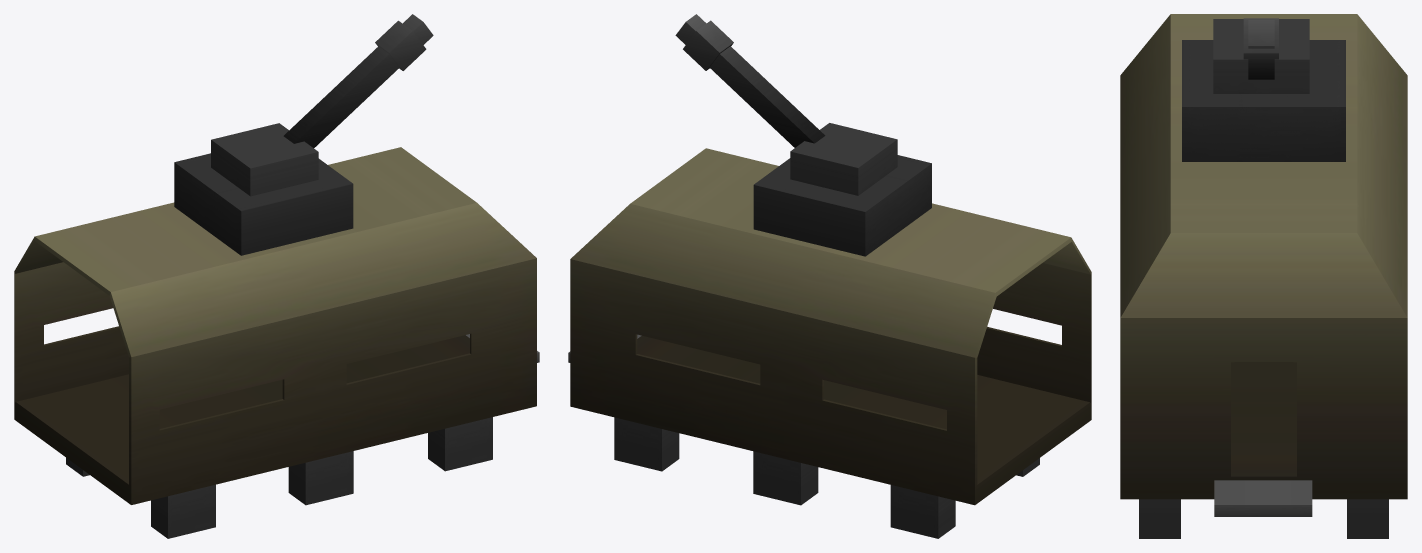
File: train_half_light_gun_everything_placeholder_v001.fbx
The picture shows the model from 3 angles, left to right: view 1: azimuth 30°, elevation 25°; view 2: azimuth 150°, elevation 25°; view 3: azimuth 270°, elevation 25°; orthographic projection. The views are drawn at different scales.
Visible parts, largest first — view 1: body, light weapon pewpew, light weapon base.001; view 2: body, light weapon pewpew, light weapon base.001; view 3: body, light weapon base.001, übergang, light weapon pewpew.
Boxes of the visible parts, box(x1,y1,x2,y2) form: body: box(14, 147, 536, 538); light weapon pewpew: box(283, 14, 433, 147); light weapon base.001: box(211, 123, 318, 196); body: box(570, 148, 1091, 538); light weapon pewpew: box(675, 14, 825, 147); light weapon base.001: box(790, 123, 897, 195); body: box(1120, 14, 1407, 538); light weapon base.001: box(1213, 19, 1309, 93); übergang: box(1214, 480, 1312, 516); light weapon pewpew: box(1243, 18, 1278, 79).
Bounding box in the file's own units: 300 × 581 × 662.
